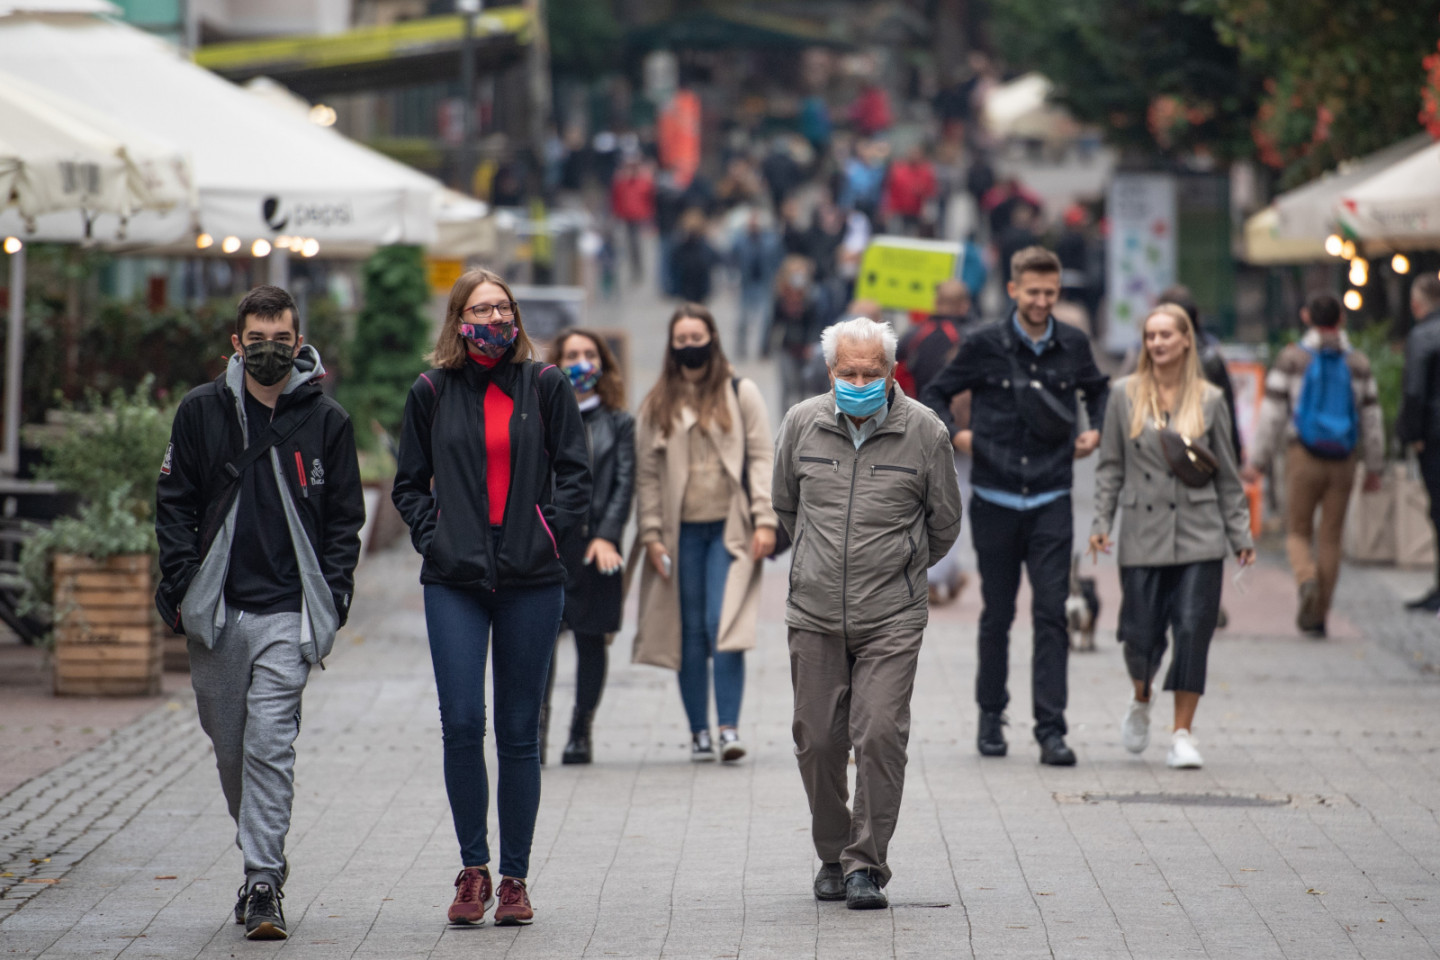person: (148, 280, 379, 947), (379, 250, 595, 936), (764, 306, 971, 916), (930, 236, 1119, 776), (1081, 298, 1265, 776), (627, 299, 781, 768), (1250, 280, 1392, 654), (534, 323, 639, 770), (1392, 259, 1440, 623)
